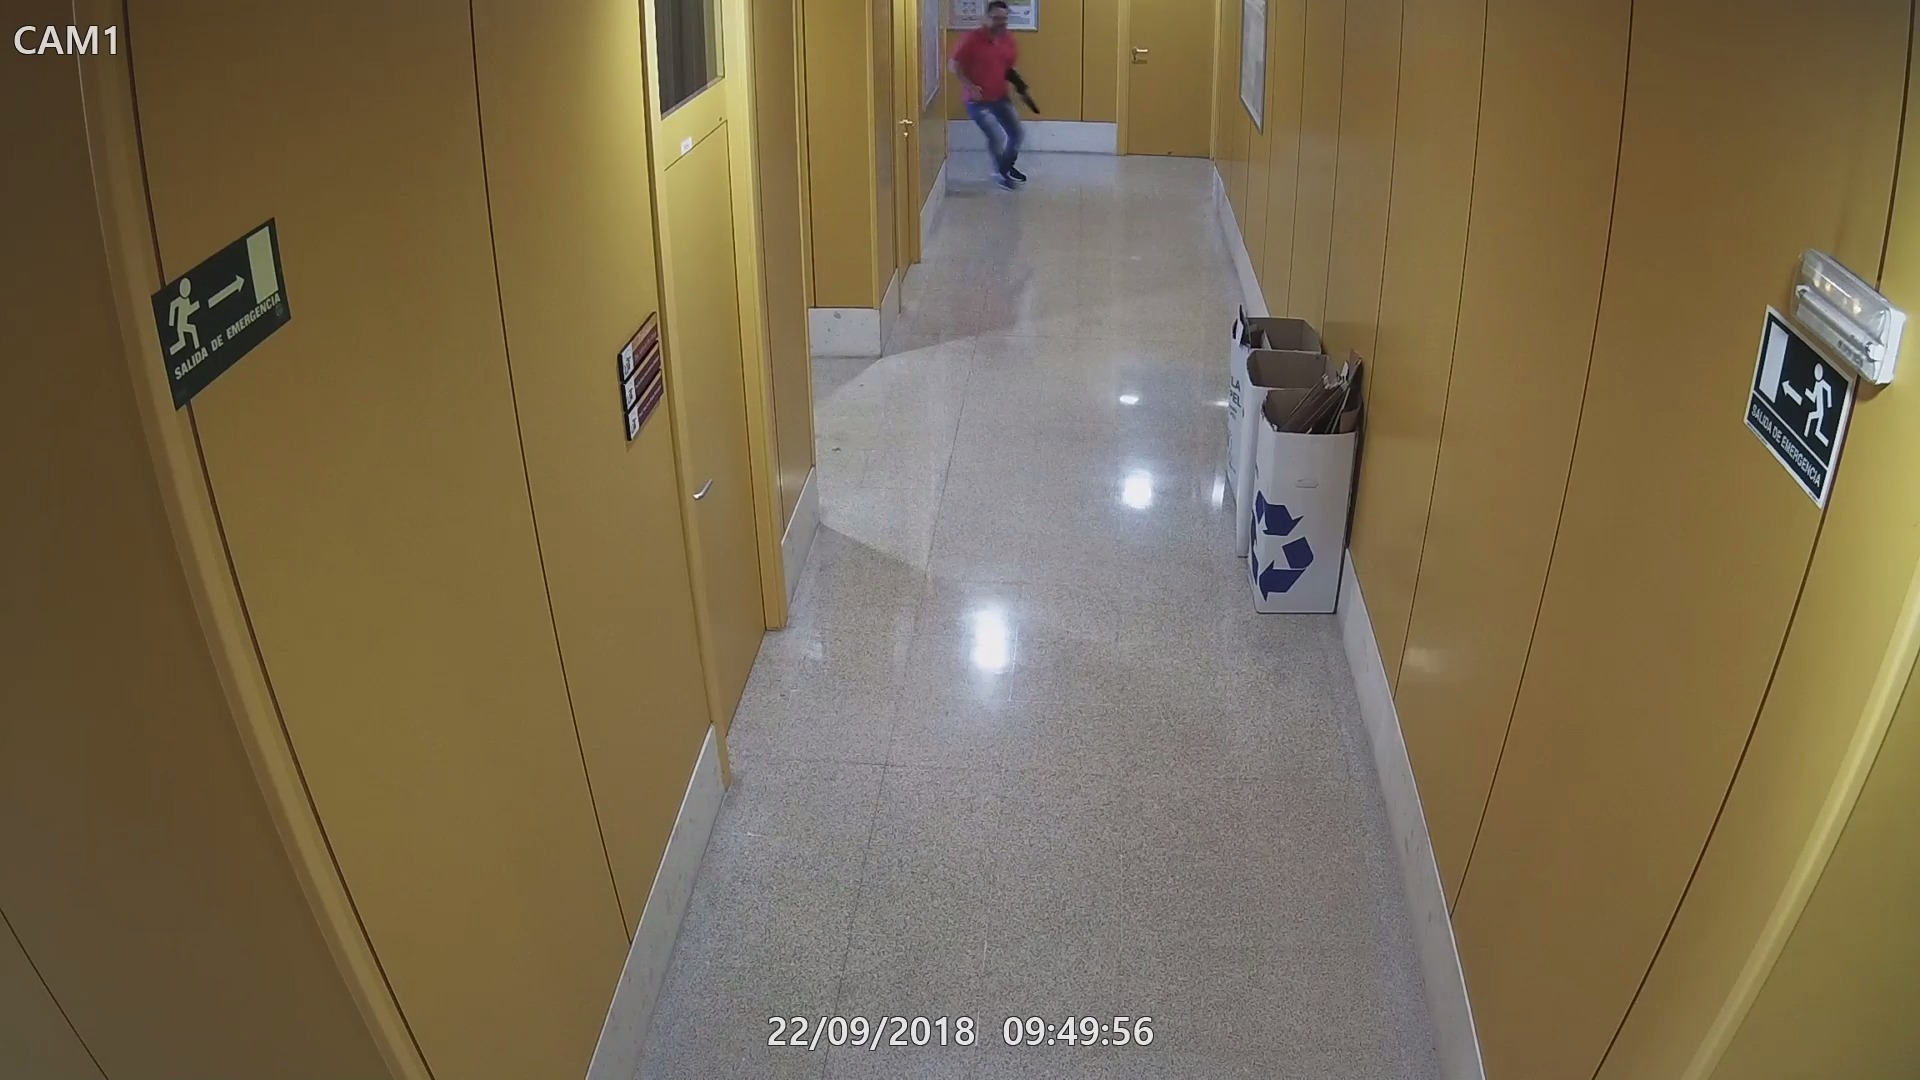Short_rifle: (1007, 66, 1043, 117)
